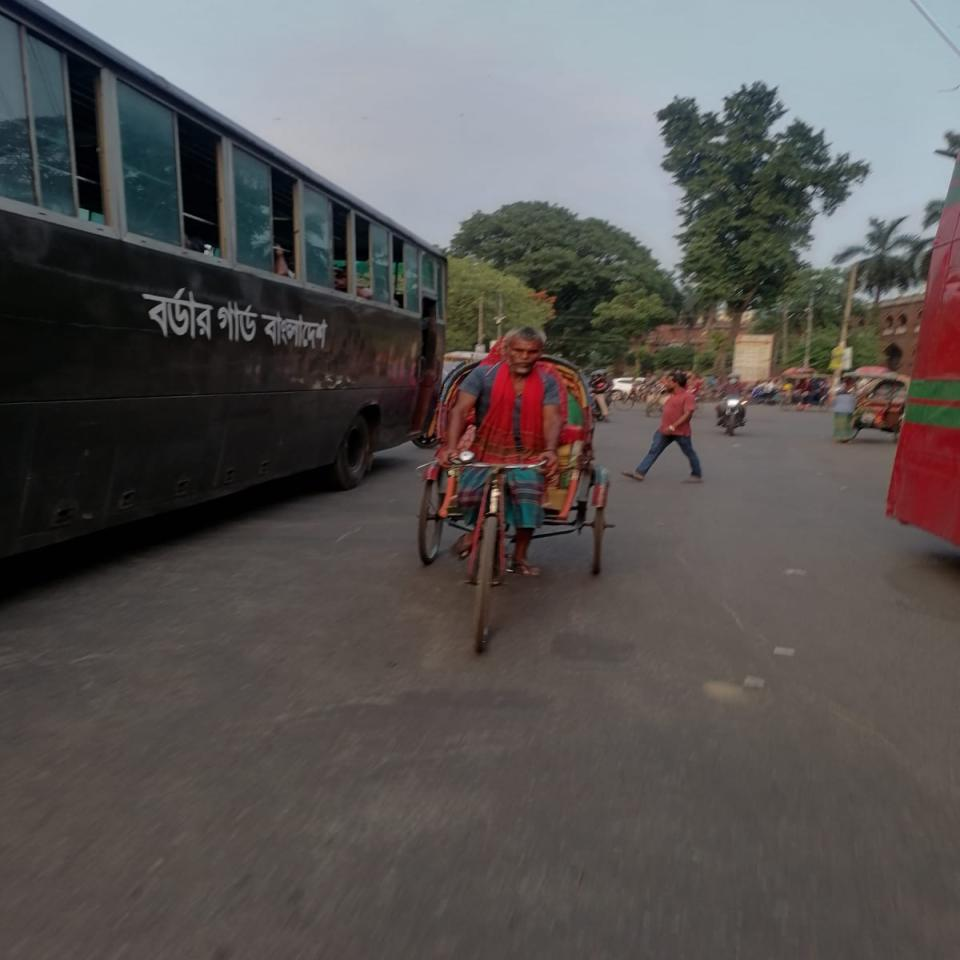person: (624, 371, 702, 483)
